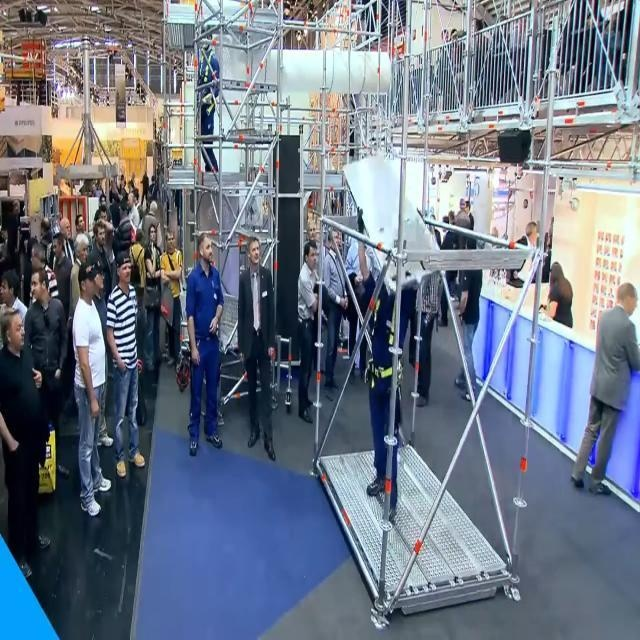Arnes_seguridad: (367, 285, 404, 405)
